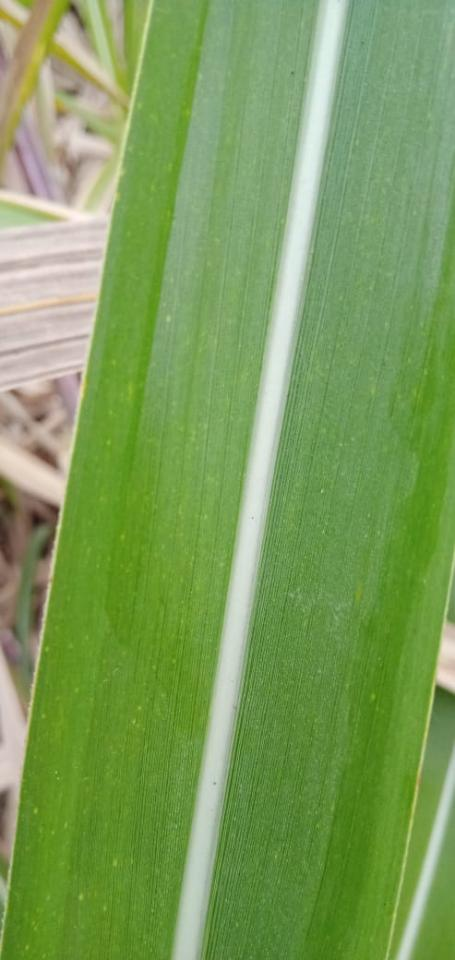Healthy: (0, 0, 454, 959), (389, 681, 454, 959)
